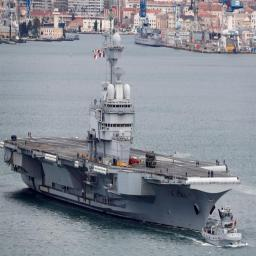Portanaves: (3, 6, 242, 237)
